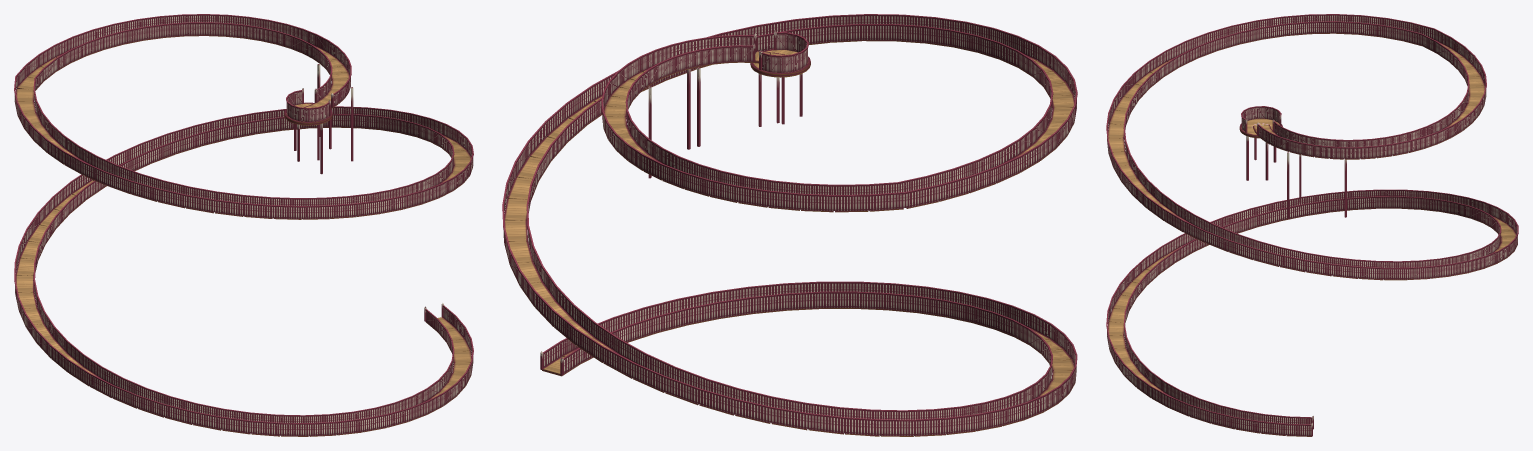
The model's file is pumpkin_stairs.glb.
3 views of the same model, side by side, from view 1: azimuth 30°, elevation 25°; view 2: azimuth 150°, elevation 25°; view 3: azimuth 270°, elevation 25° (orthographic). The views are drawn at different scales.
Parts seen in each view (by area): view 1: StairRails, Handrails, StairTreads, StairPosts; view 2: StairRails, Handrails, StairTreads, StairPosts; view 3: StairRails, Handrails, StairTreads, StairPosts.
Part boxes in pixels (<box>): StairRails: <box>14,15,473,435</box>; Handrails: <box>14,14,473,424</box>; StairTreads: <box>15,35,472,436</box>; StairPosts: <box>294,64,353,174</box>; StairRails: <box>503,16,1076,435</box>; Handrails: <box>502,14,1077,421</box>; StairTreads: <box>504,40,1075,436</box>; StairPosts: <box>648,67,802,178</box>; StairRails: <box>1107,15,1517,435</box>; Handrails: <box>1106,14,1518,436</box>; StairTreads: <box>1107,32,1517,436</box>; StairPosts: <box>1246,136,1346,218</box>.
Bounding box in the file's own units: 44.75 × 30.26 × 44.67.
2 materials, 2 textured.
